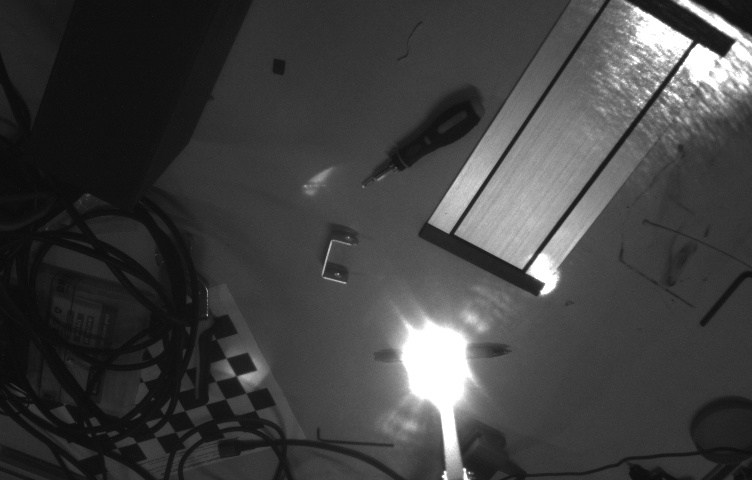Object ballpoint pen - Material plastic - Color clear - Pdfname Tg2wygrqE5uZ: (401, 331, 469, 378)
